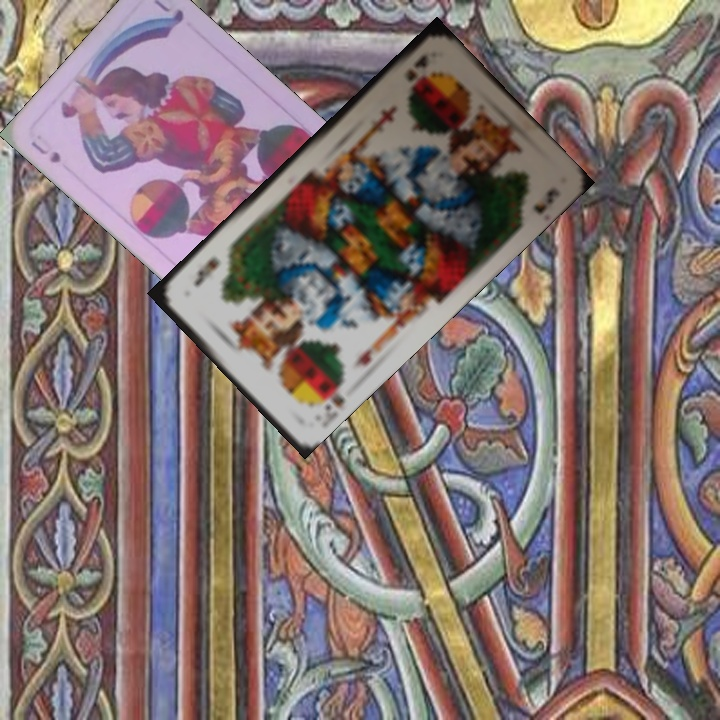SK: (307, 375, 347, 413), (401, 49, 430, 84)
SU: (27, 137, 64, 166)
